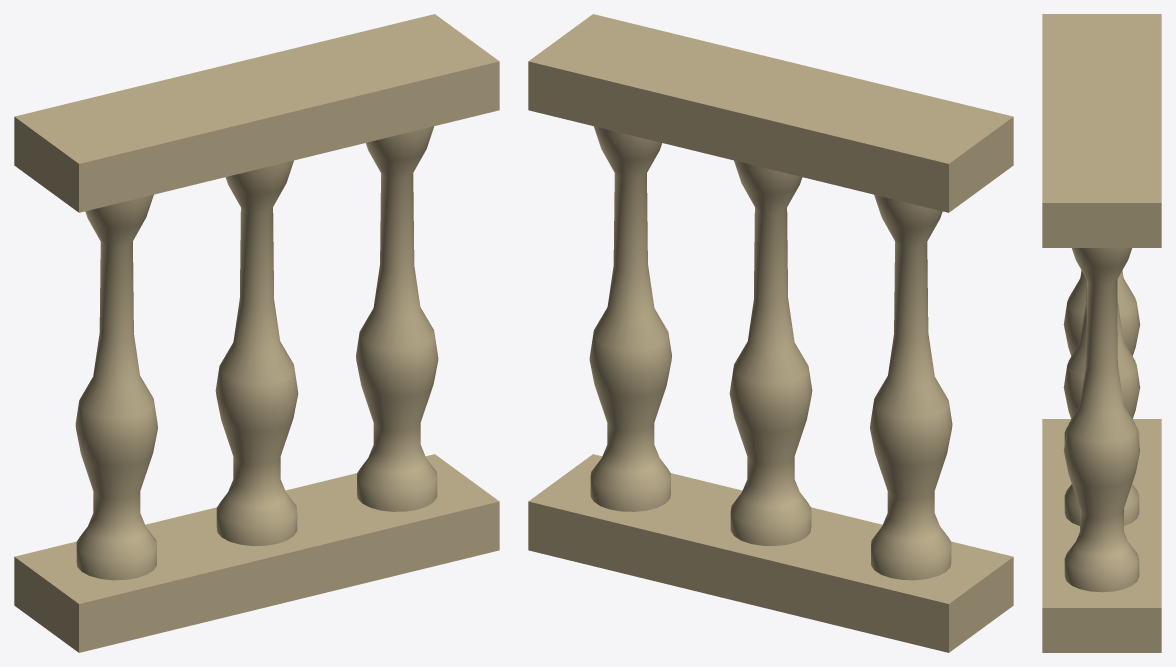
File: rpg-mansion-turned-stone-balustrade-01.glb
3 views of the same model, side by side, from view 1: azimuth 30°, elevation 25°; view 2: azimuth 150°, elevation 25°; view 3: azimuth 270°, elevation 25° (orthographic). The views are drawn at different scales.
Parts seen in each view (by area): view 1: rpg-mansion-turned-stone-balustrade-01; view 2: rpg-mansion-turned-stone-balustrade-01; view 3: rpg-mansion-turned-stone-balustrade-01.
Part boxes in pixels (x1,y1,x2,y2): rpg-mansion-turned-stone-balustrade-01: (14,14,499,652); rpg-mansion-turned-stone-balustrade-01: (528,14,1013,652); rpg-mansion-turned-stone-balustrade-01: (1042,14,1161,652).
Size of the model in its own units: 0.9 by 1 by 0.24.
